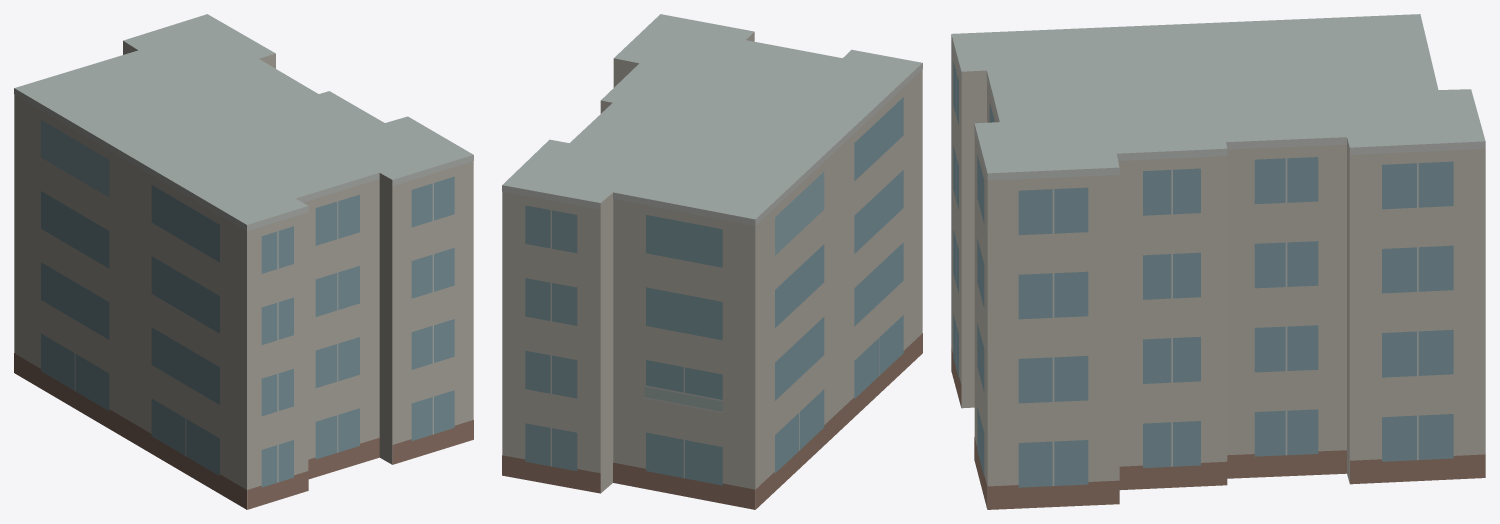
The model's file is survey-upis-32920143.glb.
The picture shows the model from 3 angles, left to right: view 1: azimuth 30°, elevation 25°; view 2: azimuth 150°, elevation 25°; view 3: azimuth 270°, elevation 25°; orthographic projection. The views are drawn at different scales.
Visible parts, largest first — view 1: survey-upis-32920143.tmp; view 2: survey-upis-32920143.tmp; view 3: survey-upis-32920143.tmp.
Part boxes in pixels (box(x1,y1,x2,y2)): survey-upis-32920143.tmp: box(14, 14, 473, 509); survey-upis-32920143.tmp: box(502, 14, 922, 509); survey-upis-32920143.tmp: box(951, 14, 1485, 509).
Bounding box in the file's own units: 11.28 × 11.1 × 15.98.
